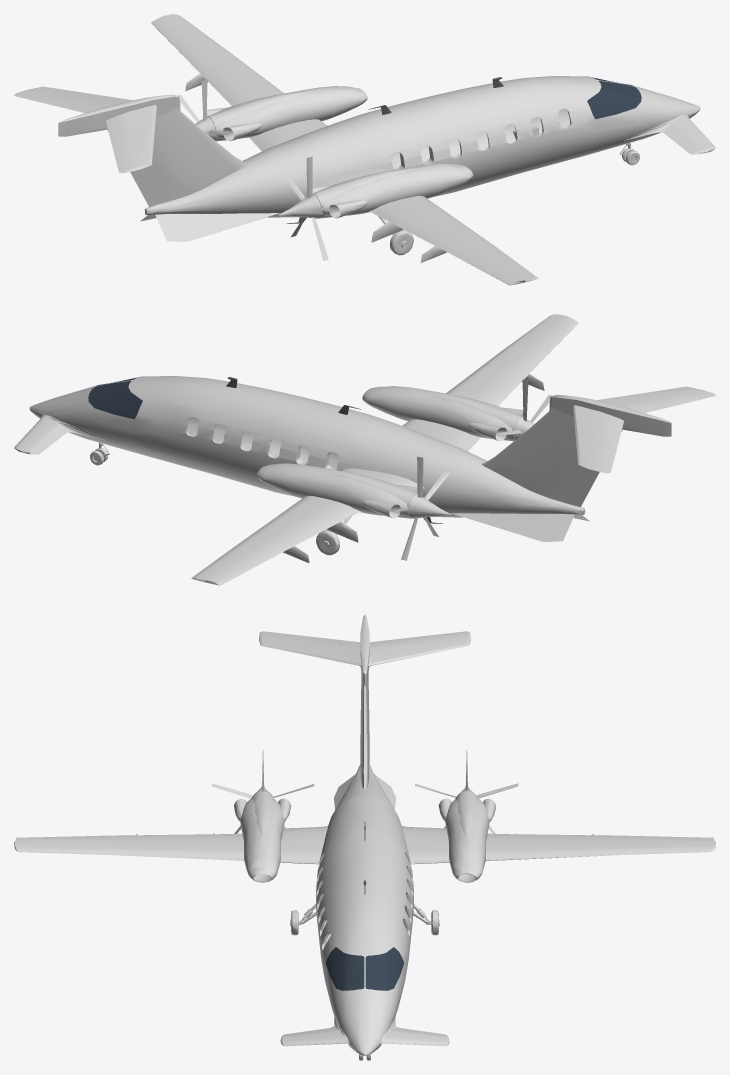
3 views of the same model, one above another, from view 1: azimuth 30°, elevation 25°; view 2: azimuth 150°, elevation 25°; view 3: azimuth 270°, elevation 25° (orthographic). The views are drawn at different scales.
Parts seen in each view (by area): view 1: body, glass; view 2: body, glass; view 3: body, glass.
Boxes of the visible parts, x1,y1,x2,y2 form: body: (14,14,715,285); glass: (587,76,641,119); body: (14,314,715,585); glass: (88,376,142,419); body: (14,614,715,1060); glass: (325,947,404,990).
Size of the model in its own units: 2.2 by 0.5999 by 2.15.
